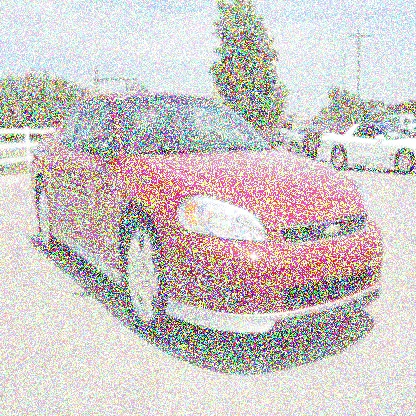Vehicle: (28, 87, 386, 340)
